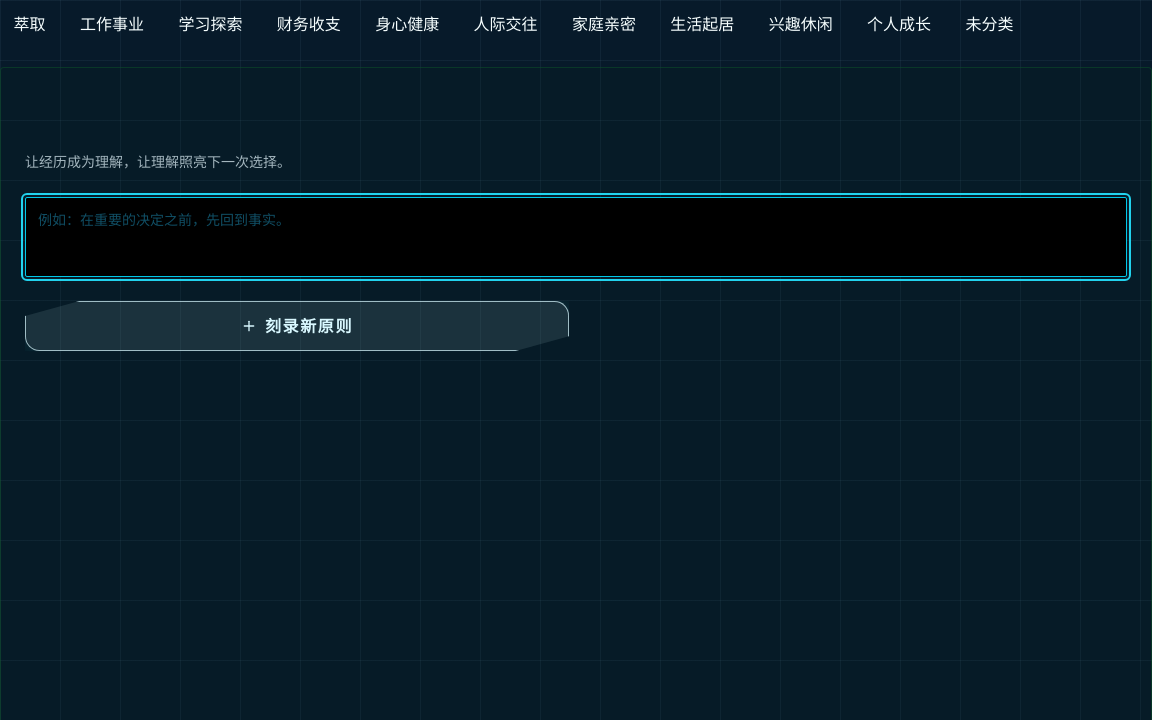
ArchivePrinciplesView › separates extraction from each tag display page
Expected: the text box named "刻录新原则" is shown, [25,197,1127,277]
Expected: the text "每天推进一步" is not shown
What coordinates should you click on to do the following:
click the button "个人成长"
I would click on:
 (899, 24)
Its box is [854,2,945,46].
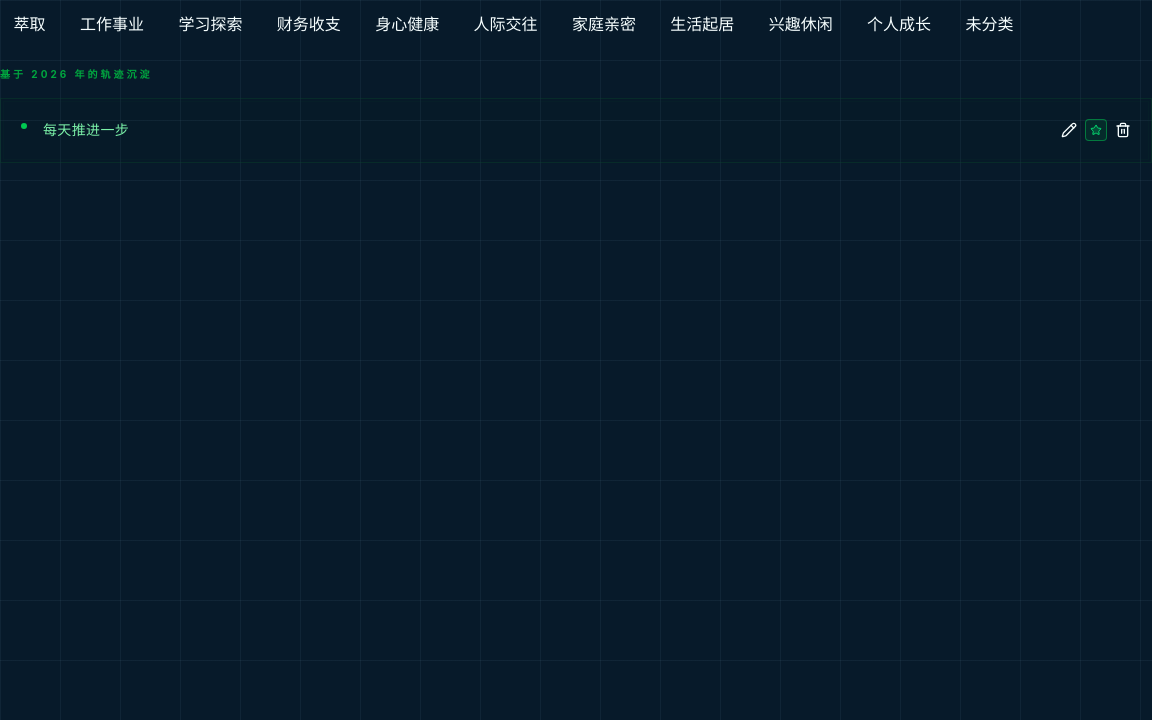
Expected: the button labelled "刻录新原则" is gone
Expected: the text "每天推进一步" is shown, [43,119,129,142]
